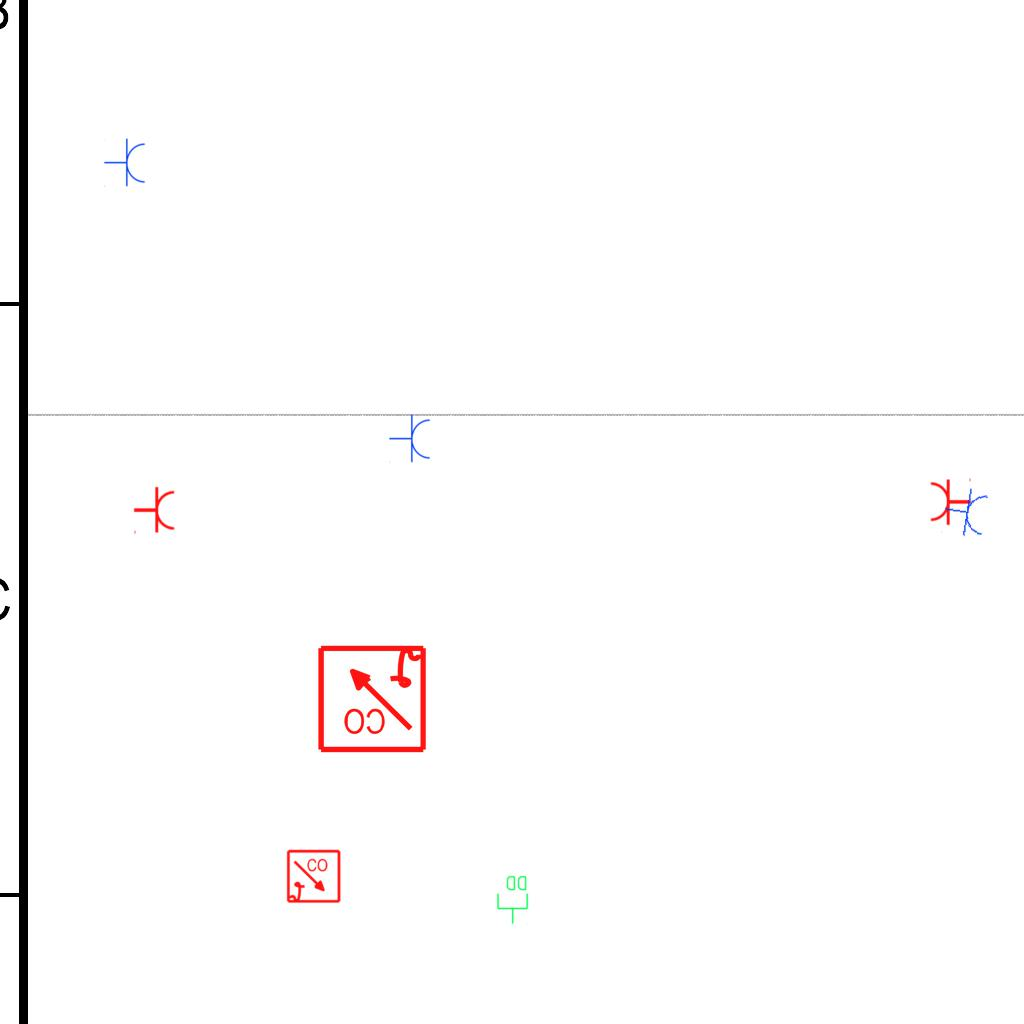Datenanschluss_zweifach: (496, 874, 530, 925)
ROA_Rauchmelder_optisch_mit_Signalgeber_(Sockelsirene): (315, 641, 428, 754), (286, 849, 342, 905)
Schukosteckdose_einfach: (940, 484, 992, 541), (929, 476, 972, 526), (104, 138, 147, 188), (133, 486, 176, 536), (389, 414, 432, 464)
